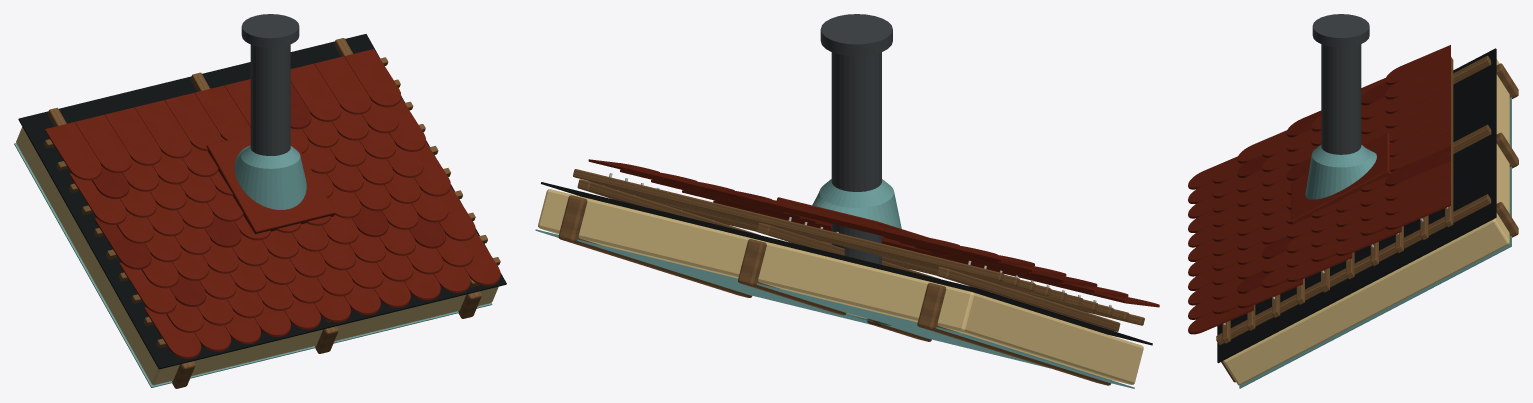
File: modell.glb
3 renders of one model, left to right at view 1: azimuth 30°, elevation 25°; view 2: azimuth 150°, elevation 25°; view 3: azimuth 270°, elevation 25°, orthographic. The views are drawn at different scales.
Parts seen in each view (by area): view 1: s11-deckziegel_deckung, s11-zusatzebene_zusatzebene, s11-daemmung_daemmung, s11-rohr_, s11-deckziegel_deckung.001, s11-formteil_deckung, s11-formteil_deckung.001, s11-lattung_lattung, s11-luftdichtheit_luftdichtheit, s11-sparren_tragwerk; view 2: s11-daemmung_daemmung, s11-lattung_lattung, s11-rohr_, s11-deckziegel_deckung, s11-sparren_tragwerk, s11-luftdichtheit_luftdichtheit, s11-zusatzebene_zusatzebene, s11-formteil_deckung.001, s11-deckziegel_deckung.001, s11-formteil_deckung; view 3: s11-deckziegel_deckung, s11-zusatzebene_zusatzebene, s11-daemmung_daemmung, s11-rohr_, s11-lattung_lattung, s11-deckziegel_deckung.001, s11-formteil_deckung.001, s11-formteil_deckung, s11-luftdichtheit_luftdichtheit, s11-sparren_tragwerk.
Boxes of the visible parts, bbox=[...] form: s11-deckziegel_deckung: bbox=[45, 49, 500, 358]; s11-zusatzebene_zusatzebene: bbox=[18, 34, 506, 369]; s11-daemmung_daemmung: bbox=[16, 127, 498, 385]; s11-rohr_: bbox=[241, 14, 299, 230]; s11-deckziegel_deckung.001: bbox=[91, 81, 445, 306]; s11-formteil_deckung: bbox=[206, 133, 335, 234]; s11-formteil_deckung.001: bbox=[234, 145, 306, 209]; s11-lattung_lattung: bbox=[44, 38, 500, 347]; s11-luftdichtheit_luftdichtheit: bbox=[14, 143, 492, 387]; s11-sparren_tragwerk: bbox=[172, 291, 481, 388]; s11-daemmung_daemmung: bbox=[538, 189, 1143, 384]; s11-lattung_lattung: bbox=[573, 169, 1144, 331]; s11-rohr_: bbox=[820, 14, 892, 264]; s11-deckziegel_deckung: bbox=[588, 159, 1159, 307]; s11-sparren_tragwerk: bbox=[558, 195, 1111, 385]; s11-luftdichtheit_luftdichtheit: bbox=[535, 229, 1134, 388]; s11-zusatzebene_zusatzebene: bbox=[541, 182, 1152, 345]; s11-formteil_deckung.001: bbox=[812, 179, 901, 228]; s11-deckziegel_deckung.001: bbox=[701, 186, 1097, 286]; s11-formteil_deckung: bbox=[776, 197, 928, 237]; s11-deckziegel_deckung: bbox=[1188, 45, 1450, 334]; s11-zusatzebene_zusatzebene: bbox=[1217, 48, 1496, 363]; s11-daemmung_daemmung: bbox=[1223, 59, 1509, 385]; s11-rohr_: bbox=[1312, 14, 1369, 154]; s11-lattung_lattung: bbox=[1216, 55, 1491, 345]; s11-deckziegel_deckung.001: bbox=[1237, 82, 1450, 293]; s11-formteil_deckung.001: bbox=[1305, 144, 1376, 199]; s11-formteil_deckung: bbox=[1291, 132, 1390, 224]; s11-luftdichtheit_luftdichtheit: bbox=[1239, 97, 1511, 388]; s11-sparren_tragwerk: bbox=[1221, 63, 1518, 382].
Bounding box in the file's own units: 2.09 × 1.65 × 1.74.
8 materials, 3 textured.
